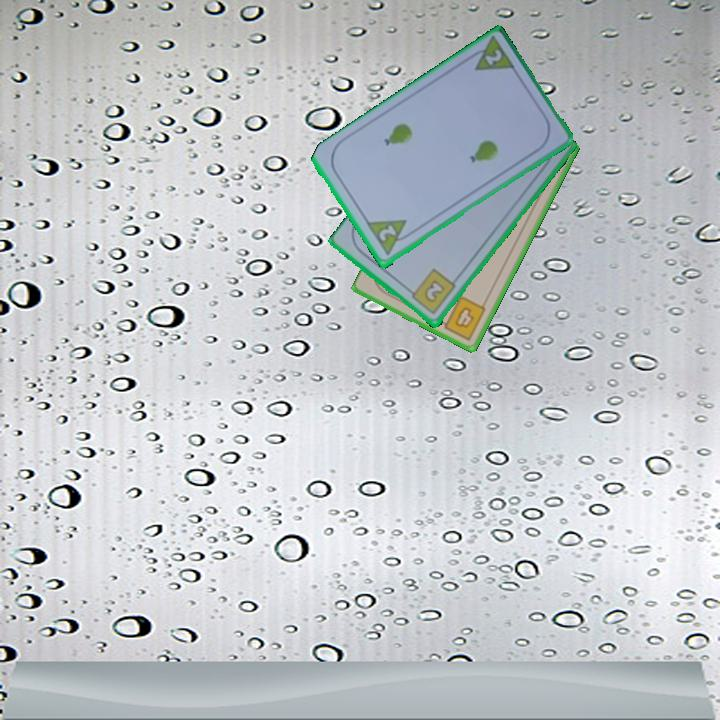2b: (404, 266, 459, 318)
2p: (375, 222, 399, 245), (481, 46, 505, 69)
4b: (435, 292, 489, 343)
